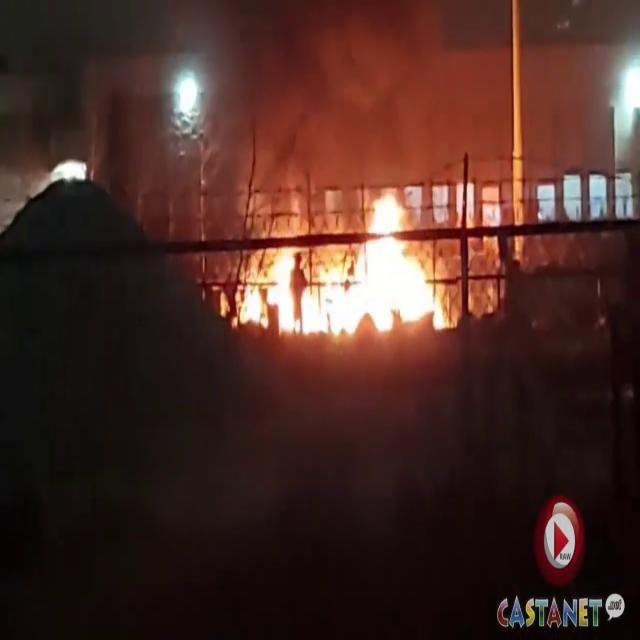Fire: (229, 187, 457, 353)
Smoke: (221, 0, 462, 186)
